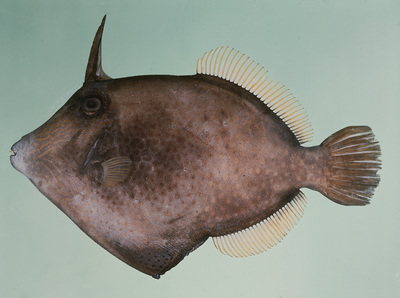fish: (10, 15, 381, 279)
